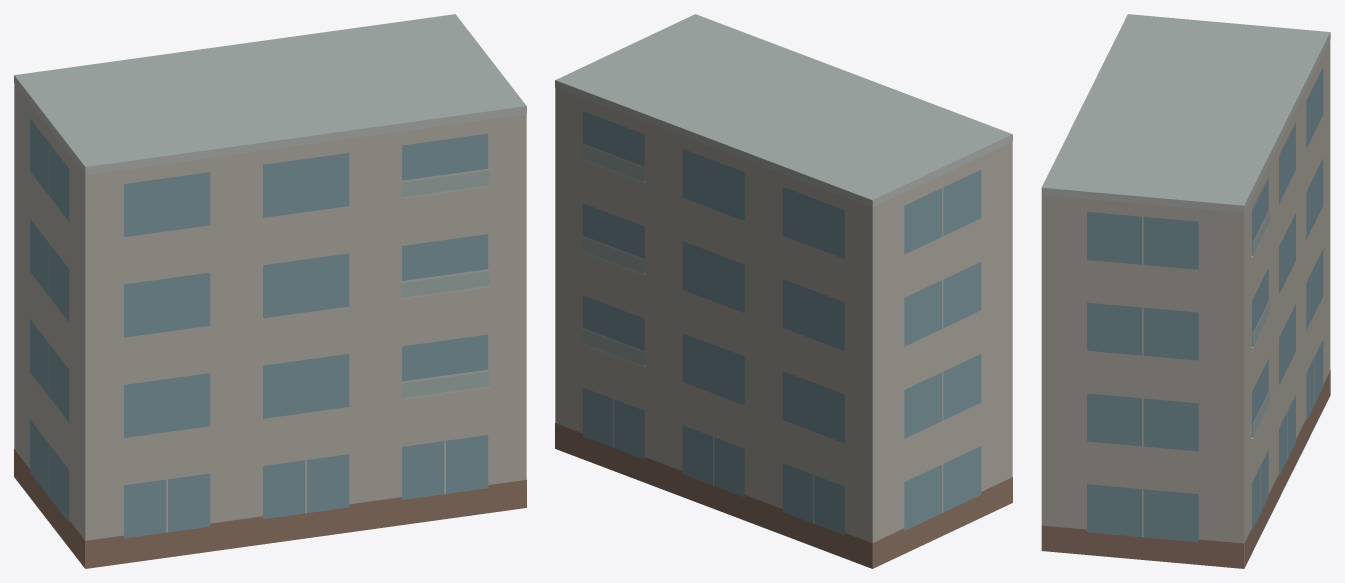
File: residential-821d22ea-6c25-432b-81e5-1a5e7e1800b8.glb
The picture shows the model from 3 angles, left to right: view 1: azimuth 30°, elevation 25°; view 2: azimuth 150°, elevation 25°; view 3: azimuth 270°, elevation 25°; orthographic projection. The views are drawn at different scales.
Parts seen in each view (by area): view 1: residential-821d22ea-6c25-432b-81e5-1a5e7e1800b8.tmp; view 2: residential-821d22ea-6c25-432b-81e5-1a5e7e1800b8.tmp; view 3: residential-821d22ea-6c25-432b-81e5-1a5e7e1800b8.tmp.
Boxes of the visible parts, <box> form: residential-821d22ea-6c25-432b-81e5-1a5e7e1800b8.tmp: <box>14,14,526,568</box>; residential-821d22ea-6c25-432b-81e5-1a5e7e1800b8.tmp: <box>555,14,1012,568</box>; residential-821d22ea-6c25-432b-81e5-1a5e7e1800b8.tmp: <box>1041,14,1330,568</box>.
Bounding box in the file's own units: 13.82 × 12.2 × 8.81.
